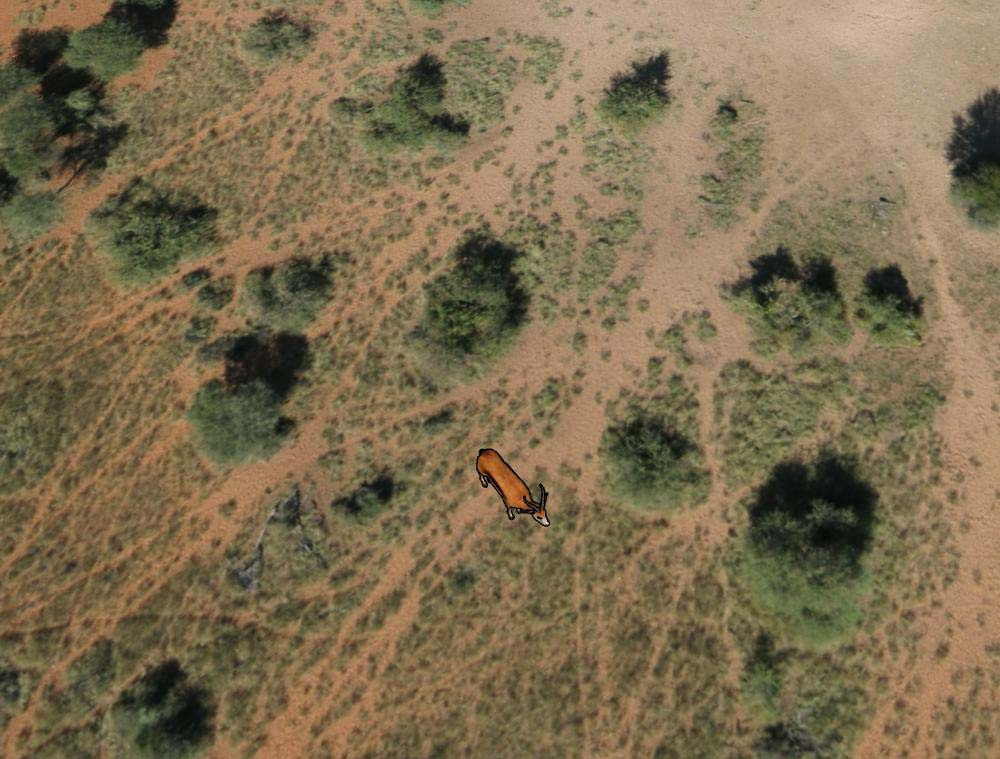springbok: (473, 442, 555, 530)
